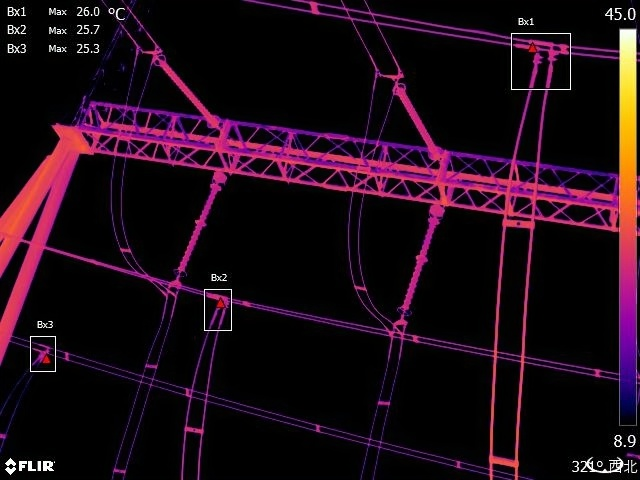clamp: (522, 36, 567, 74), (367, 67, 402, 86), (128, 40, 159, 61), (382, 329, 411, 350), (208, 289, 232, 312), (35, 341, 56, 364), (158, 286, 183, 300)
insulator: (173, 166, 231, 278), (398, 202, 447, 318), (157, 54, 220, 131), (392, 81, 443, 160)
